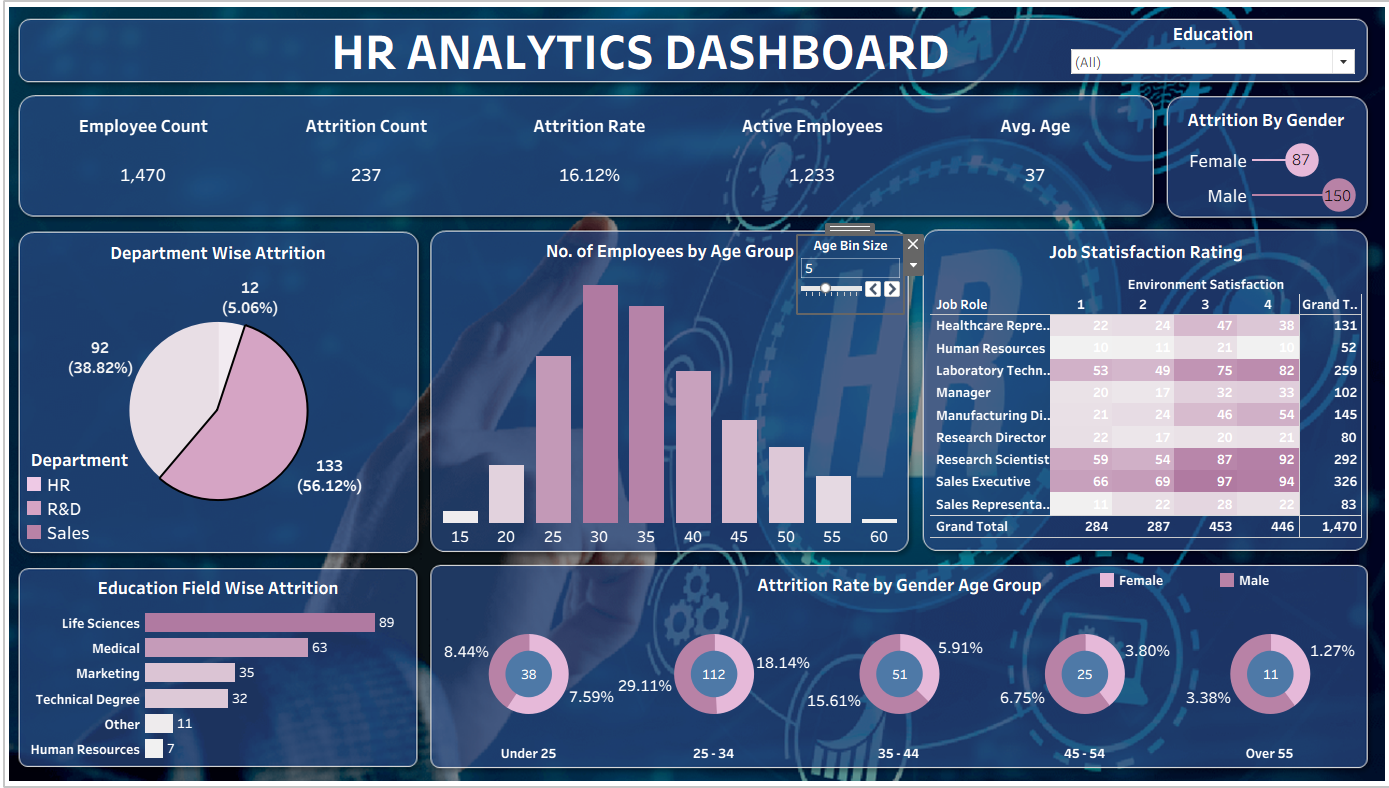

The page's visual inventory and layout, read from the dashboard file:
{"tool":"tableau","page":{"name":"HR Report","canvas":[1400,800],"ordinal":0},"visuals":[{"type":"image","param":"E:/Skill Course/Tabbleau/Module-7-Dashboard Creation-20260106T030851Z-1-001/Modu","box":[8,8,1384,784]},{"type":"image","param":"C:/Users/ASUS/Downloads/HR logo.png","box":[37,27,162,57]},{"type":"text","box":[166,28,955,56]},{"type":"filter","title":"No. of Employees by Age Group","param":"[federated.0cw6ahf1k9do4d1c6f8uk1a59p0p].[none:Education:nk]","box":[1071,28,290,57]},{"type":"worksheet","title":"KPI","mark":"Automatic","box":[35,103,1115,115]},{"type":"worksheet","title":"Attrition By Gender","mark":"Automatic","rows":["Gender"],"cols":["Calculation_1431866347016200","Calculation_1431866347016200"],"box":[1175,110,188,109]},{"type":"worksheet","title":"No. of Employees by Age Group","mark":"Automatic","rows":["Employee Count"],"cols":["Age (bin)"],"box":[440,241,466,313]},{"type":"parameter","param":"[Parameters].[Parameter 1]","box":[801,242,105,77]},{"type":"worksheet","title":"Job Statisfaction Rating","mark":"Square","rows":["Job Role"],"cols":["Environment Satisfaction"],"box":[933,242,432,302]},{"type":"worksheet","title":"Department Wise Attrition","mark":"Pie","box":[25,243,392,309]},{"type":"legend","title":"Department Wise Attrition","param":"[federated.0cw6ahf1k9do4d1c6f8uk1a59p0p].[none:Department:nk]","box":[25,454,115,99]},{"type":"worksheet","title":"Attrition Rate by Gender Age Group","mark":"Pie","rows":["Calculation_0798824039395329","Calculation_0798824039395329"],"cols":["CF_age band"],"box":[439,575,927,194]},{"type":"legend","title":"Attrition Rate by Gender Age Group","param":"[federated.0cw6ahf1k9do4d1c6f8uk1a59p0p].[none:Gender:nk]","box":[1100,576,253,33]},{"type":"worksheet","title":"Education Field Wise Attrition","mark":"Automatic","rows":["Education Field"],"cols":["Calculation_1431866347016200"],"box":[28,578,386,189]}]}

Visuals, with their boxes in screenshot pixels (x1, y1, x2, y2), scaled from the page's 1400x800 canvas onto the 1389x788 screenshot:
image: crop(8, 8, 1381, 780)
image: crop(37, 27, 197, 83)
text: crop(165, 28, 1112, 83)
"No. of Employees by Age Group" filter: crop(1063, 28, 1350, 84)
"KPI" worksheet: crop(35, 101, 1141, 215)
"Attrition By Gender" worksheet: crop(1166, 108, 1352, 216)
"No. of Employees by Age Group" worksheet: crop(437, 237, 899, 546)
parameter: crop(795, 238, 899, 314)
"Job Statisfaction Rating" worksheet (Square marks): crop(926, 238, 1354, 536)
"Department Wise Attrition" worksheet (Pie marks): crop(25, 239, 414, 544)
"Department Wise Attrition" legend: crop(25, 447, 139, 545)
"Attrition Rate by Gender Age Group" worksheet (Pie marks): crop(436, 566, 1355, 757)
"Attrition Rate by Gender Age Group" legend: crop(1091, 567, 1342, 600)
"Education Field Wise Attrition" worksheet: crop(28, 569, 411, 755)
